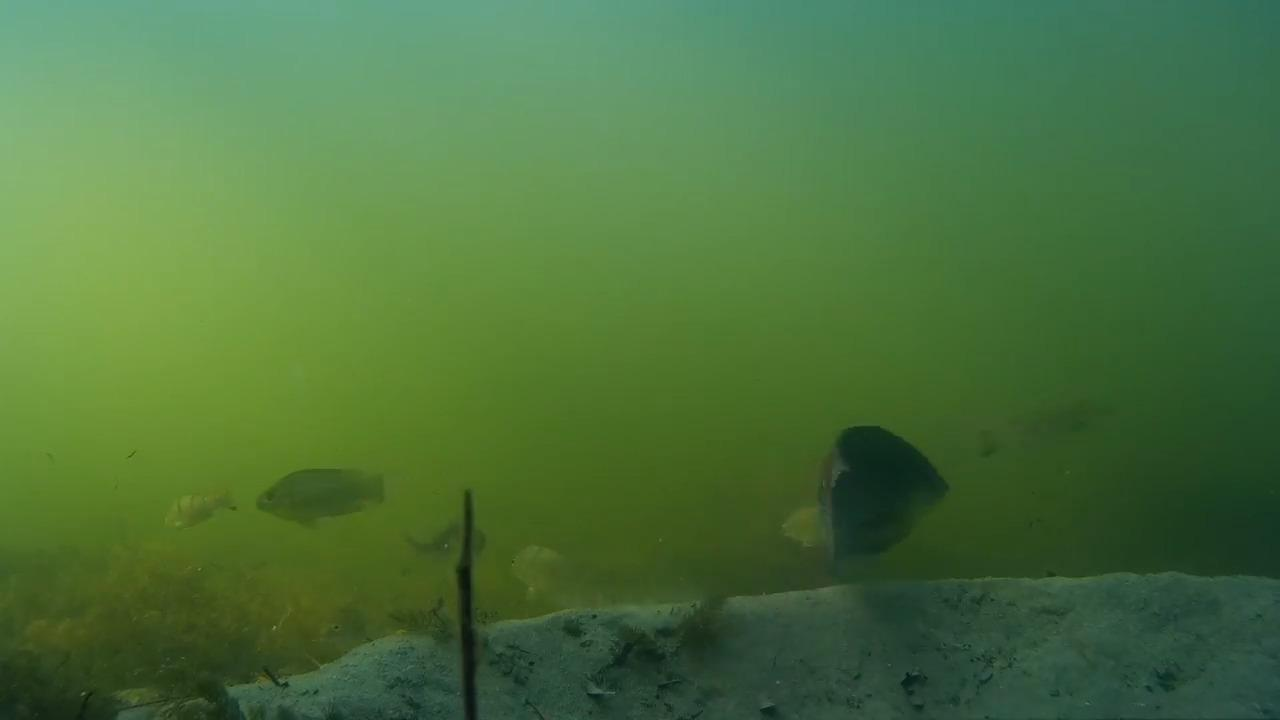Tilapia: (776, 426, 999, 592), (974, 378, 1133, 492), (262, 456, 389, 552), (504, 538, 603, 618), (393, 504, 492, 568), (161, 484, 238, 524)
